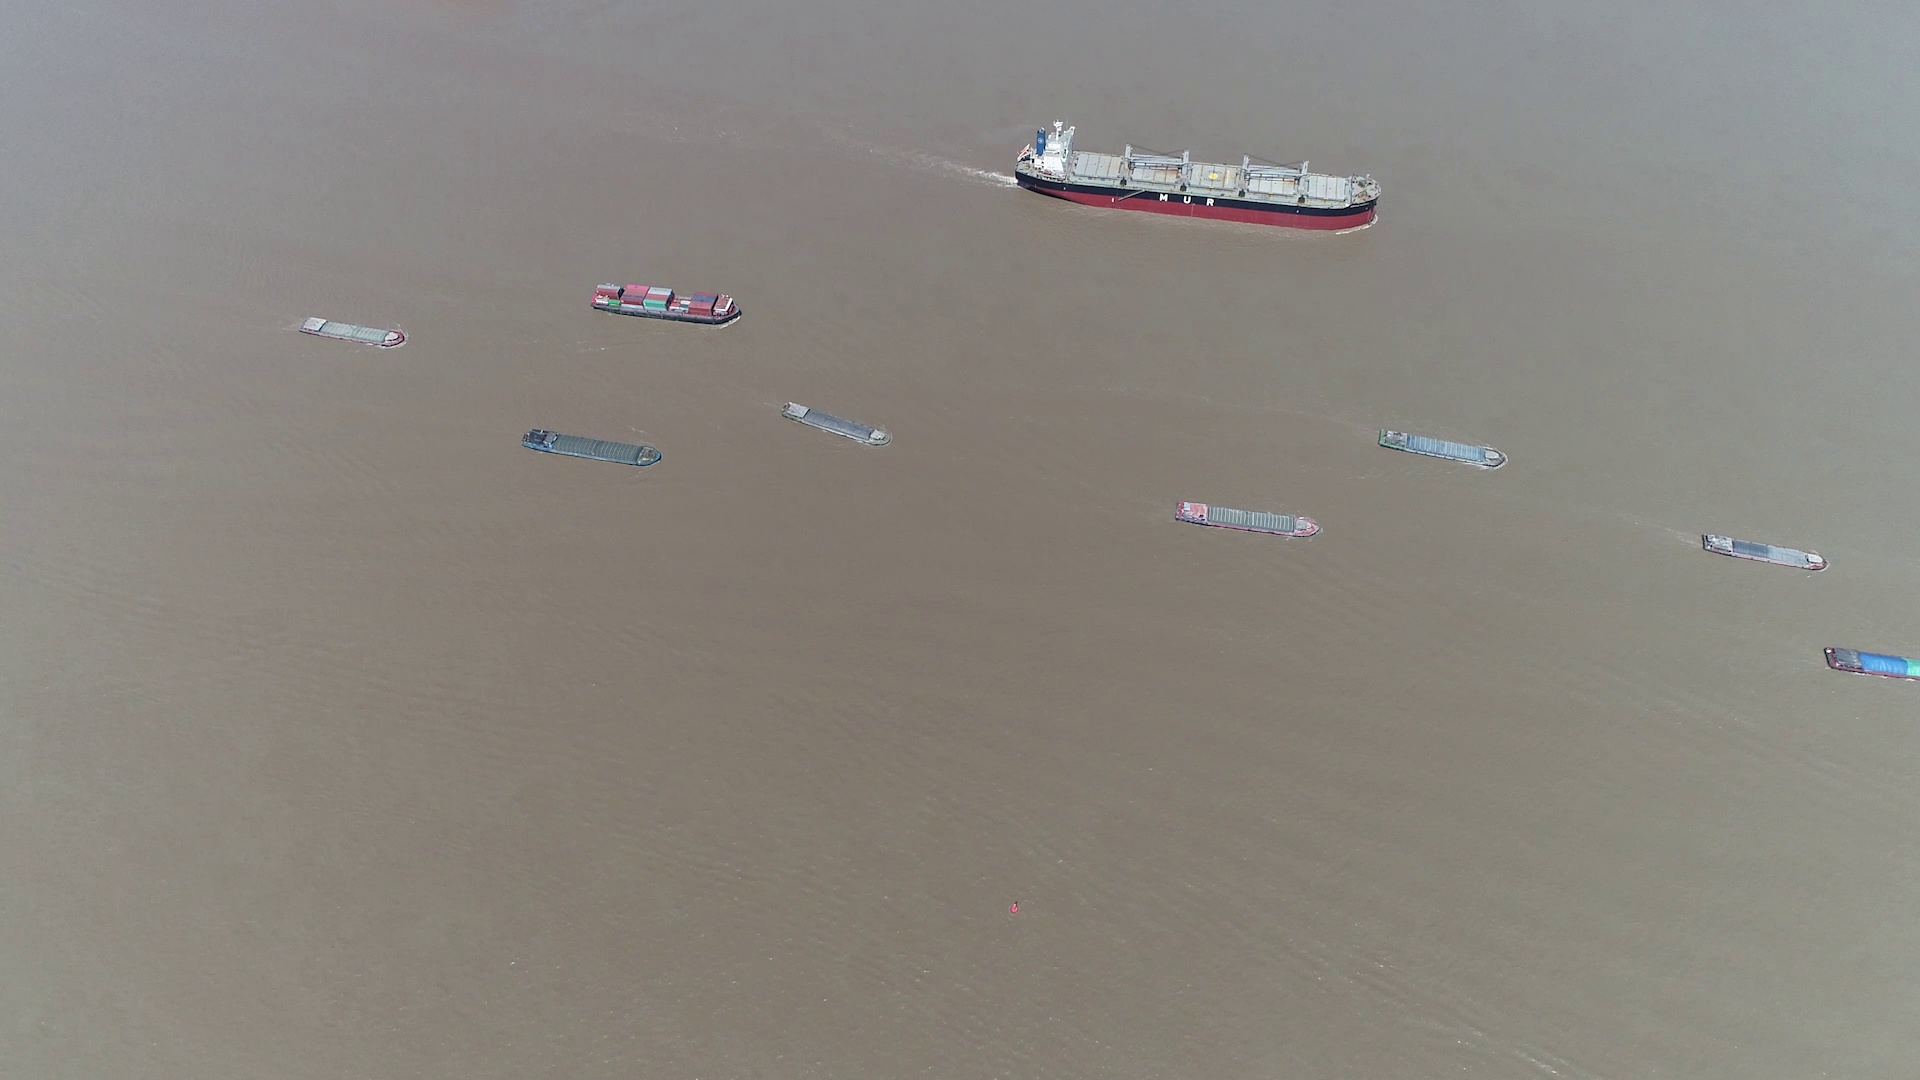ship: (1011, 125, 1379, 228), (589, 281, 744, 324), (524, 429, 662, 469), (1174, 501, 1321, 538), (1381, 429, 1509, 469), (1698, 531, 1829, 571), (781, 402, 891, 448), (299, 314, 407, 347), (1824, 647, 1919, 683)
